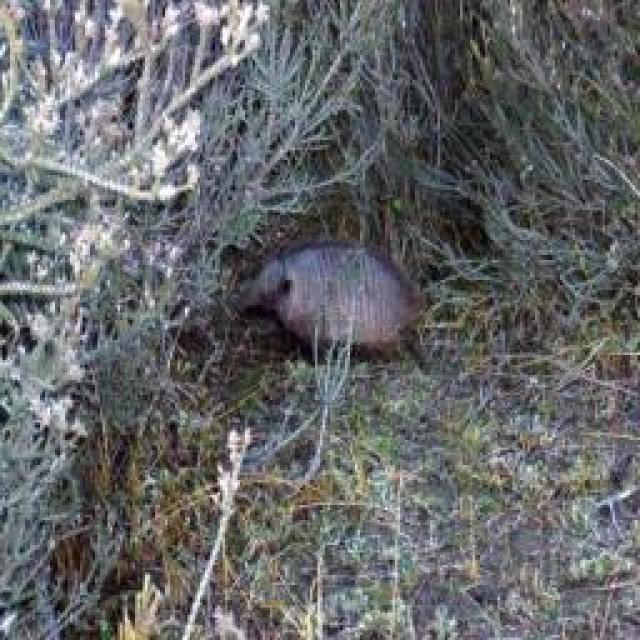not_pig: (232, 235, 428, 360)
